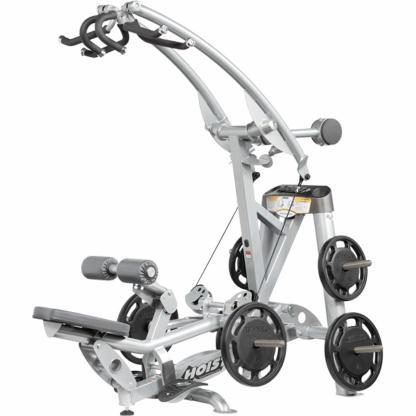Lat Pull Down: (29, 0, 397, 416)
